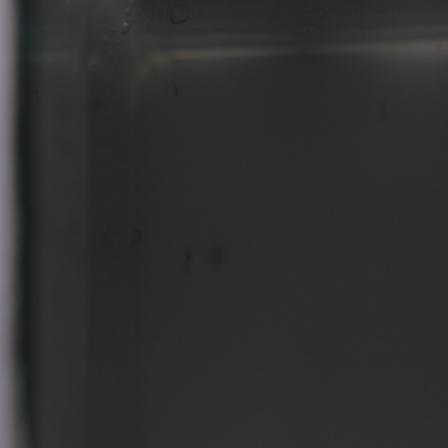Jentik-Nyamuk: (125, 226, 145, 251)
